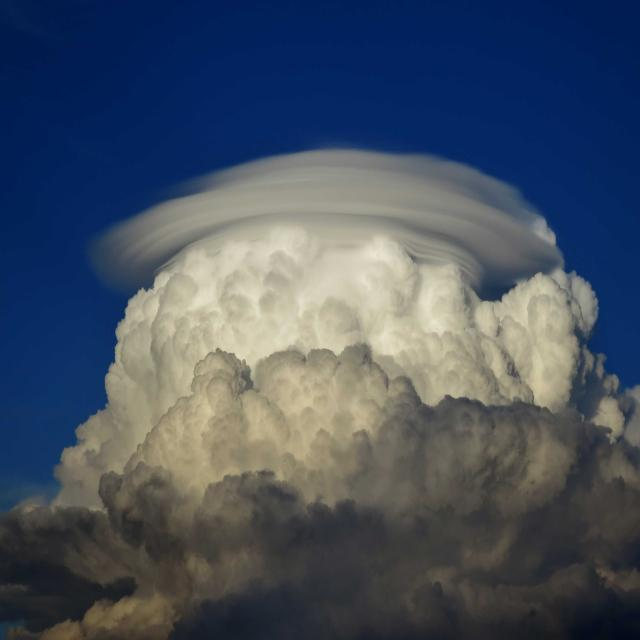cumulonimbus: (4, 130, 634, 640)
